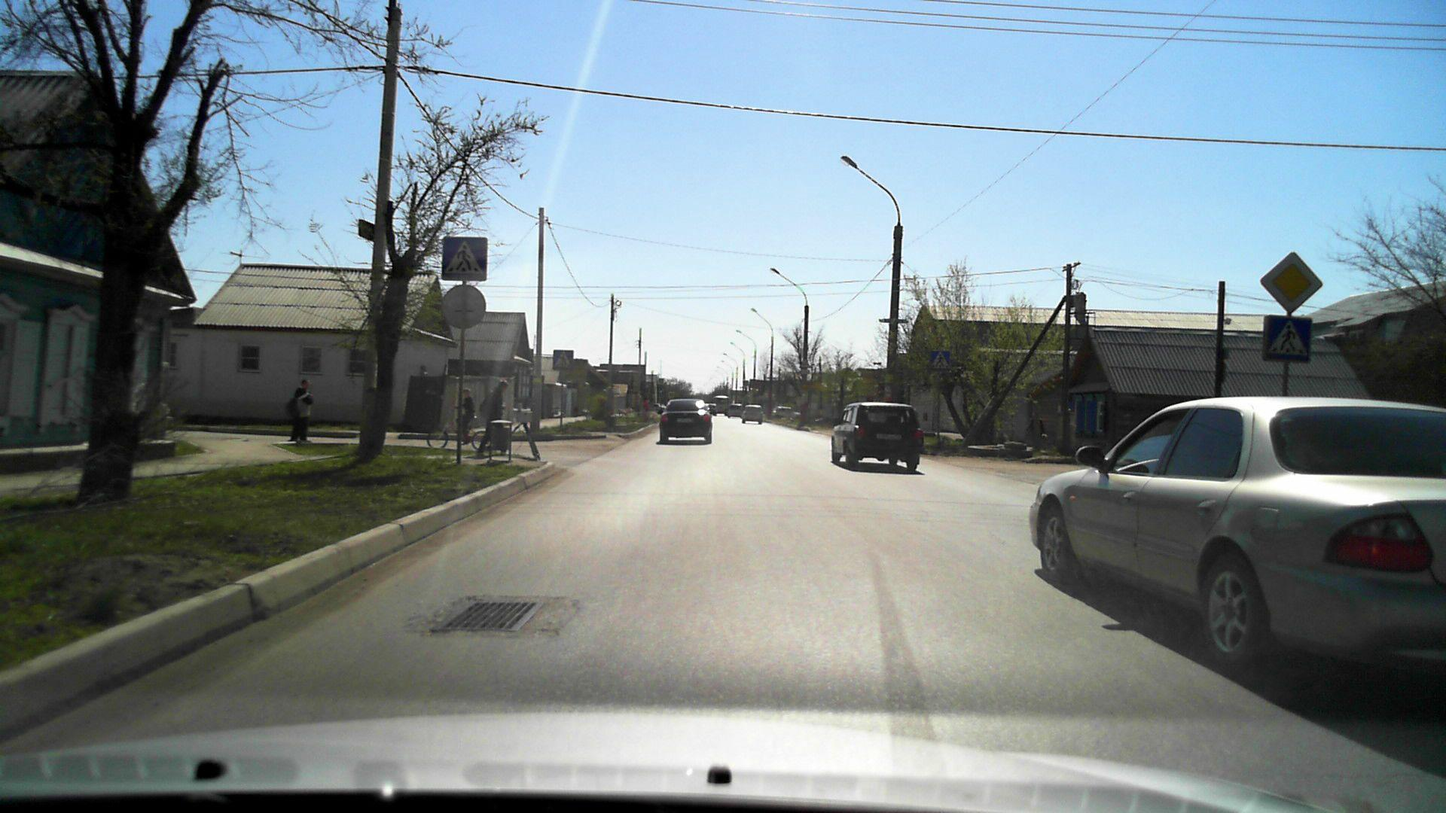obstructed_road_sign: (929, 349, 952, 372)
road_sign: (1257, 249, 1325, 318), (1263, 314, 1313, 364), (441, 234, 488, 282)
